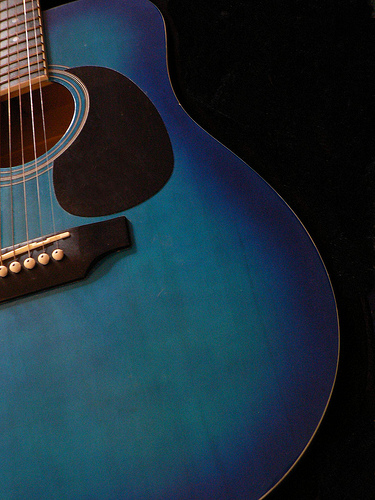guitar: (1, 1, 340, 500)
